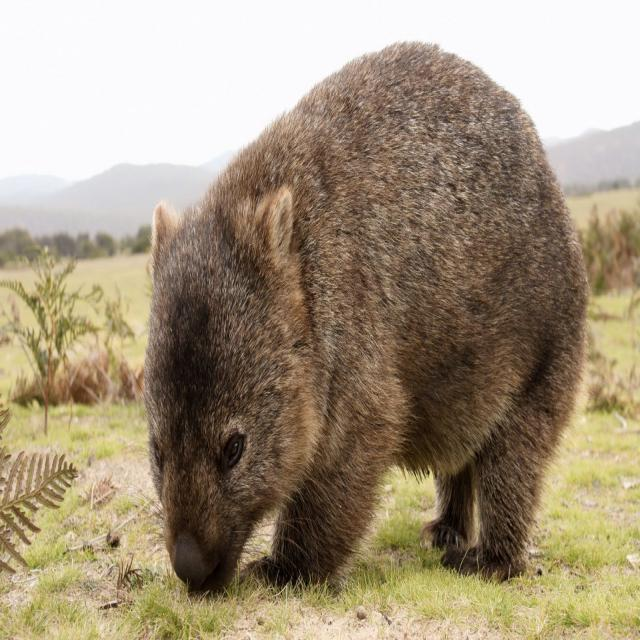wombats: (145, 42, 588, 591)
